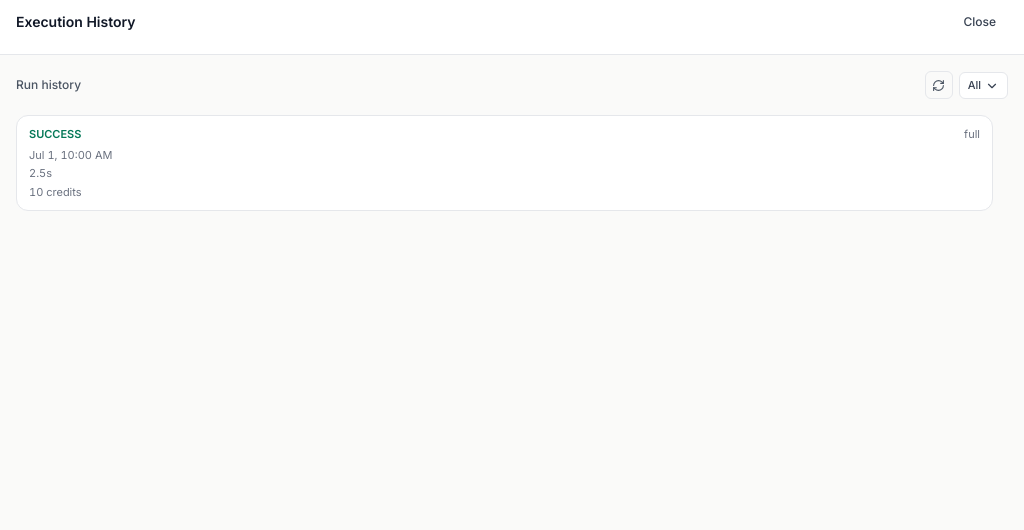
RunHistory › expands a run and shows node-level details
The width and height of the screenshot is (1024, 530).
Check: the text "SUCCESS" is shown, box [29,126,81,142]
Click the button "SUCCESS full Jul 1, 10:00 AM 2.5s 10 credits" at (55,134), box [17,116,992,210]
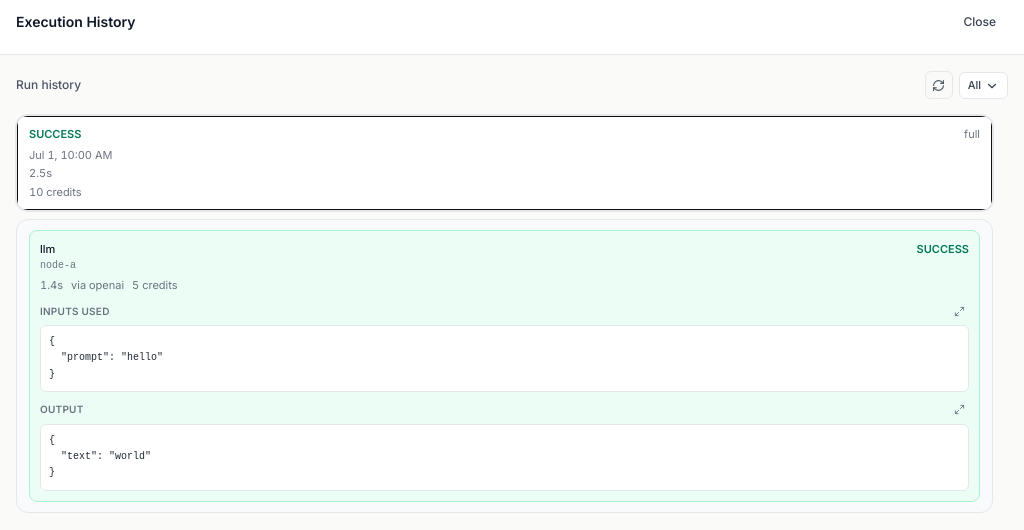
Check: the text "llm" is shown, box [40,242,55,256]
Check: the text "node-a" is shown, box [40,258,76,272]
Check: the text "Inputs used" is shown, box [40,304,110,318]
